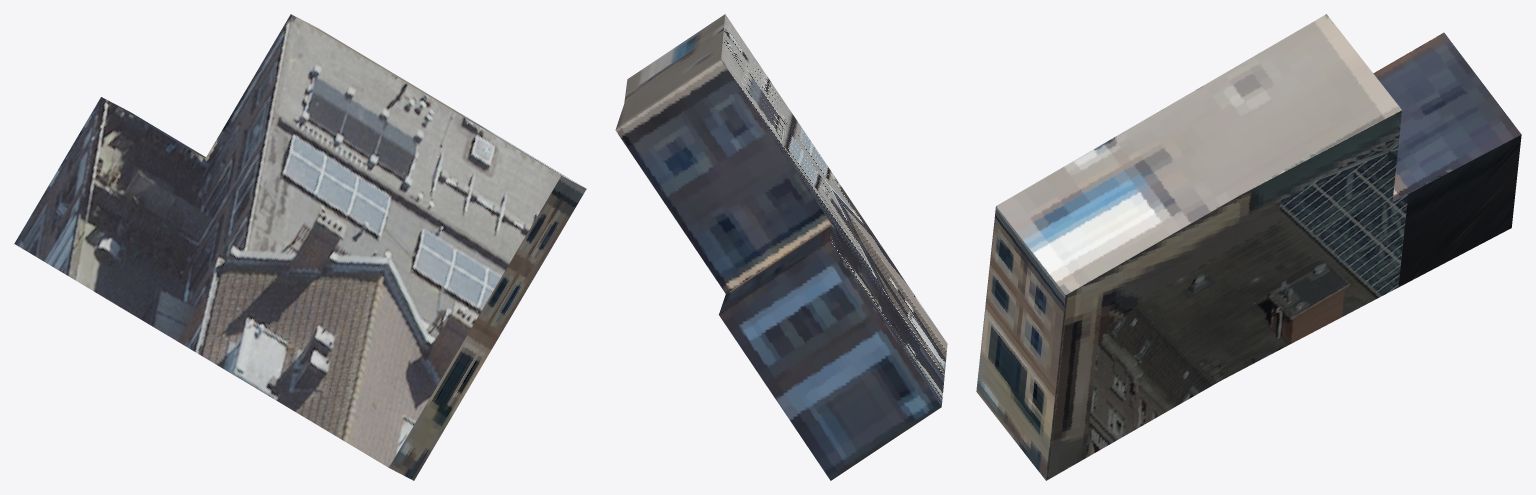
3 renders of one model, left to right at view 1: azimuth 30°, elevation 25°; view 2: azimuth 150°, elevation 25°; view 3: azimuth 270°, elevation 25°, orthographic. The views are drawn at different scales.
Visible parts, largest first — view 1: BAG_0599100000760344 (×3); view 2: BAG_0599100000760344 (×2); view 3: BAG_0599100000760344 (×4).
Part boxes in pixels (left/top/right/bottom): BAG_0599100000760344 (×3): left=14, top=14, right=586, bottom=480; BAG_0599100000760344 (×2): left=615, top=14, right=947, bottom=480; BAG_0599100000760344 (×4): left=976, top=14, right=1521, bottom=480.
Bounding box in the file's own units: 20.43 × 17.84 × 19.05.
Materials: 1 (1 with a texture image).
